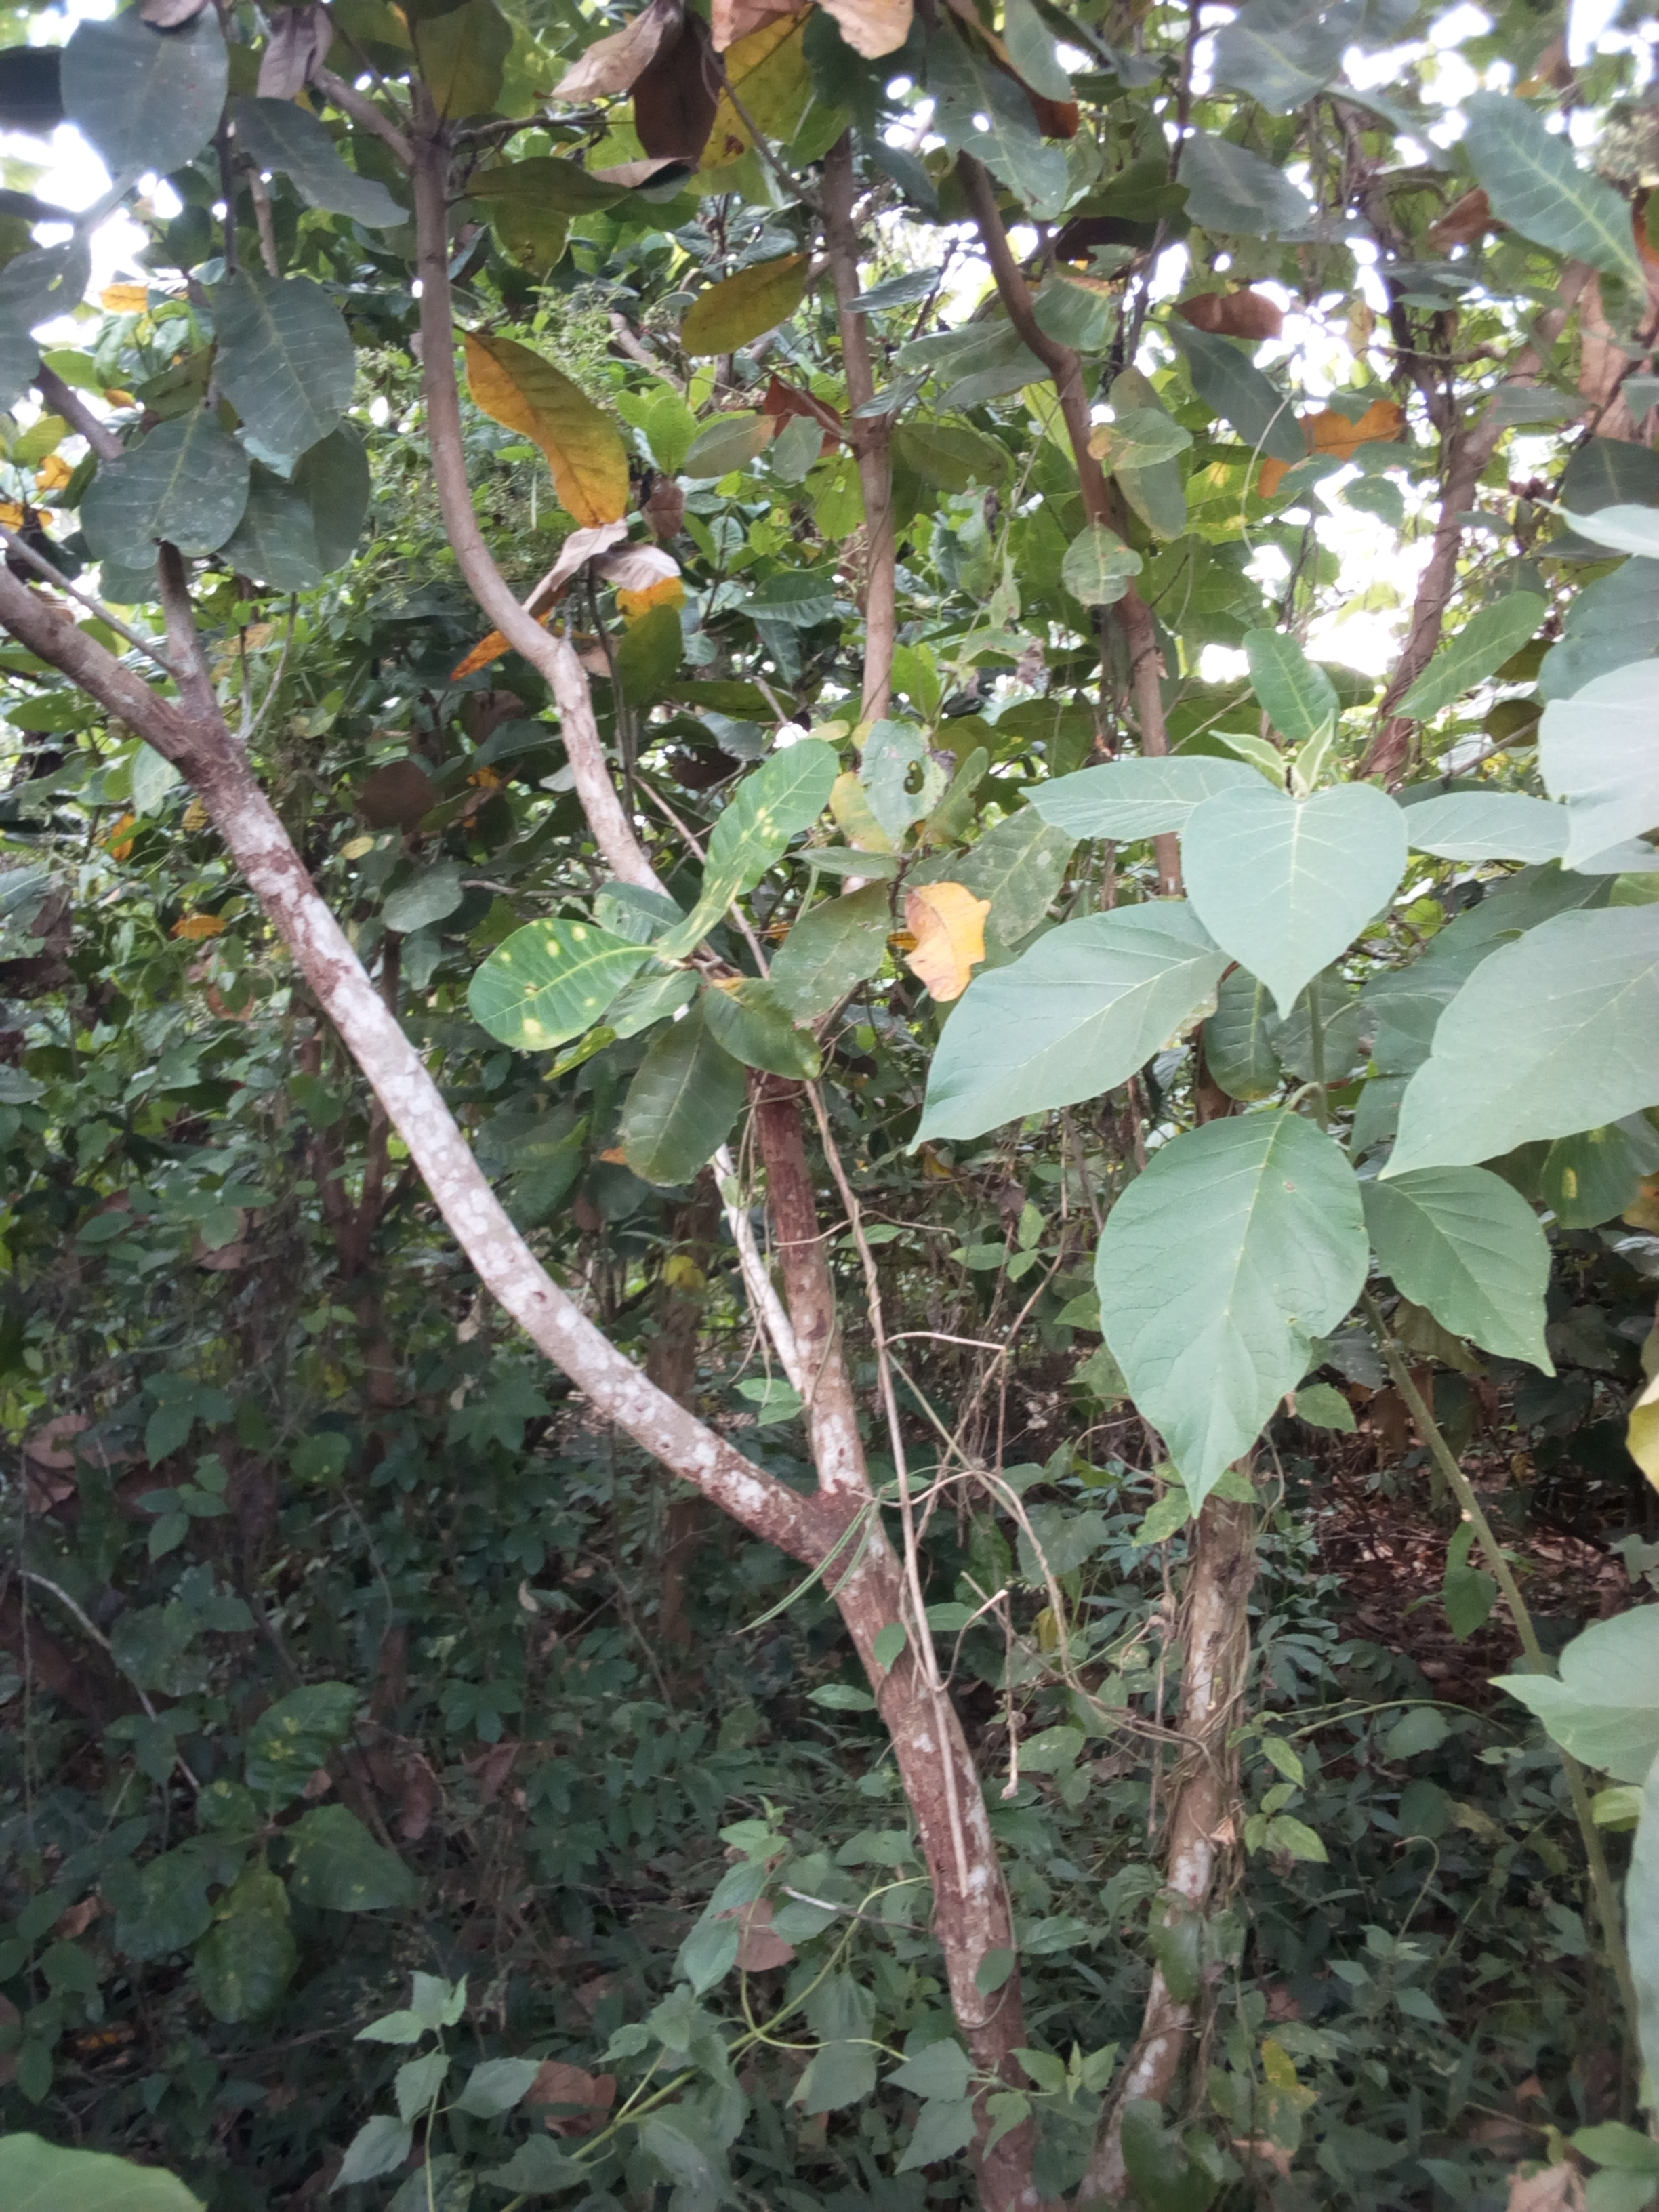Alternariose: (457, 324, 643, 536), (453, 902, 680, 1059), (701, 712, 857, 937), (1297, 392, 1425, 465)
